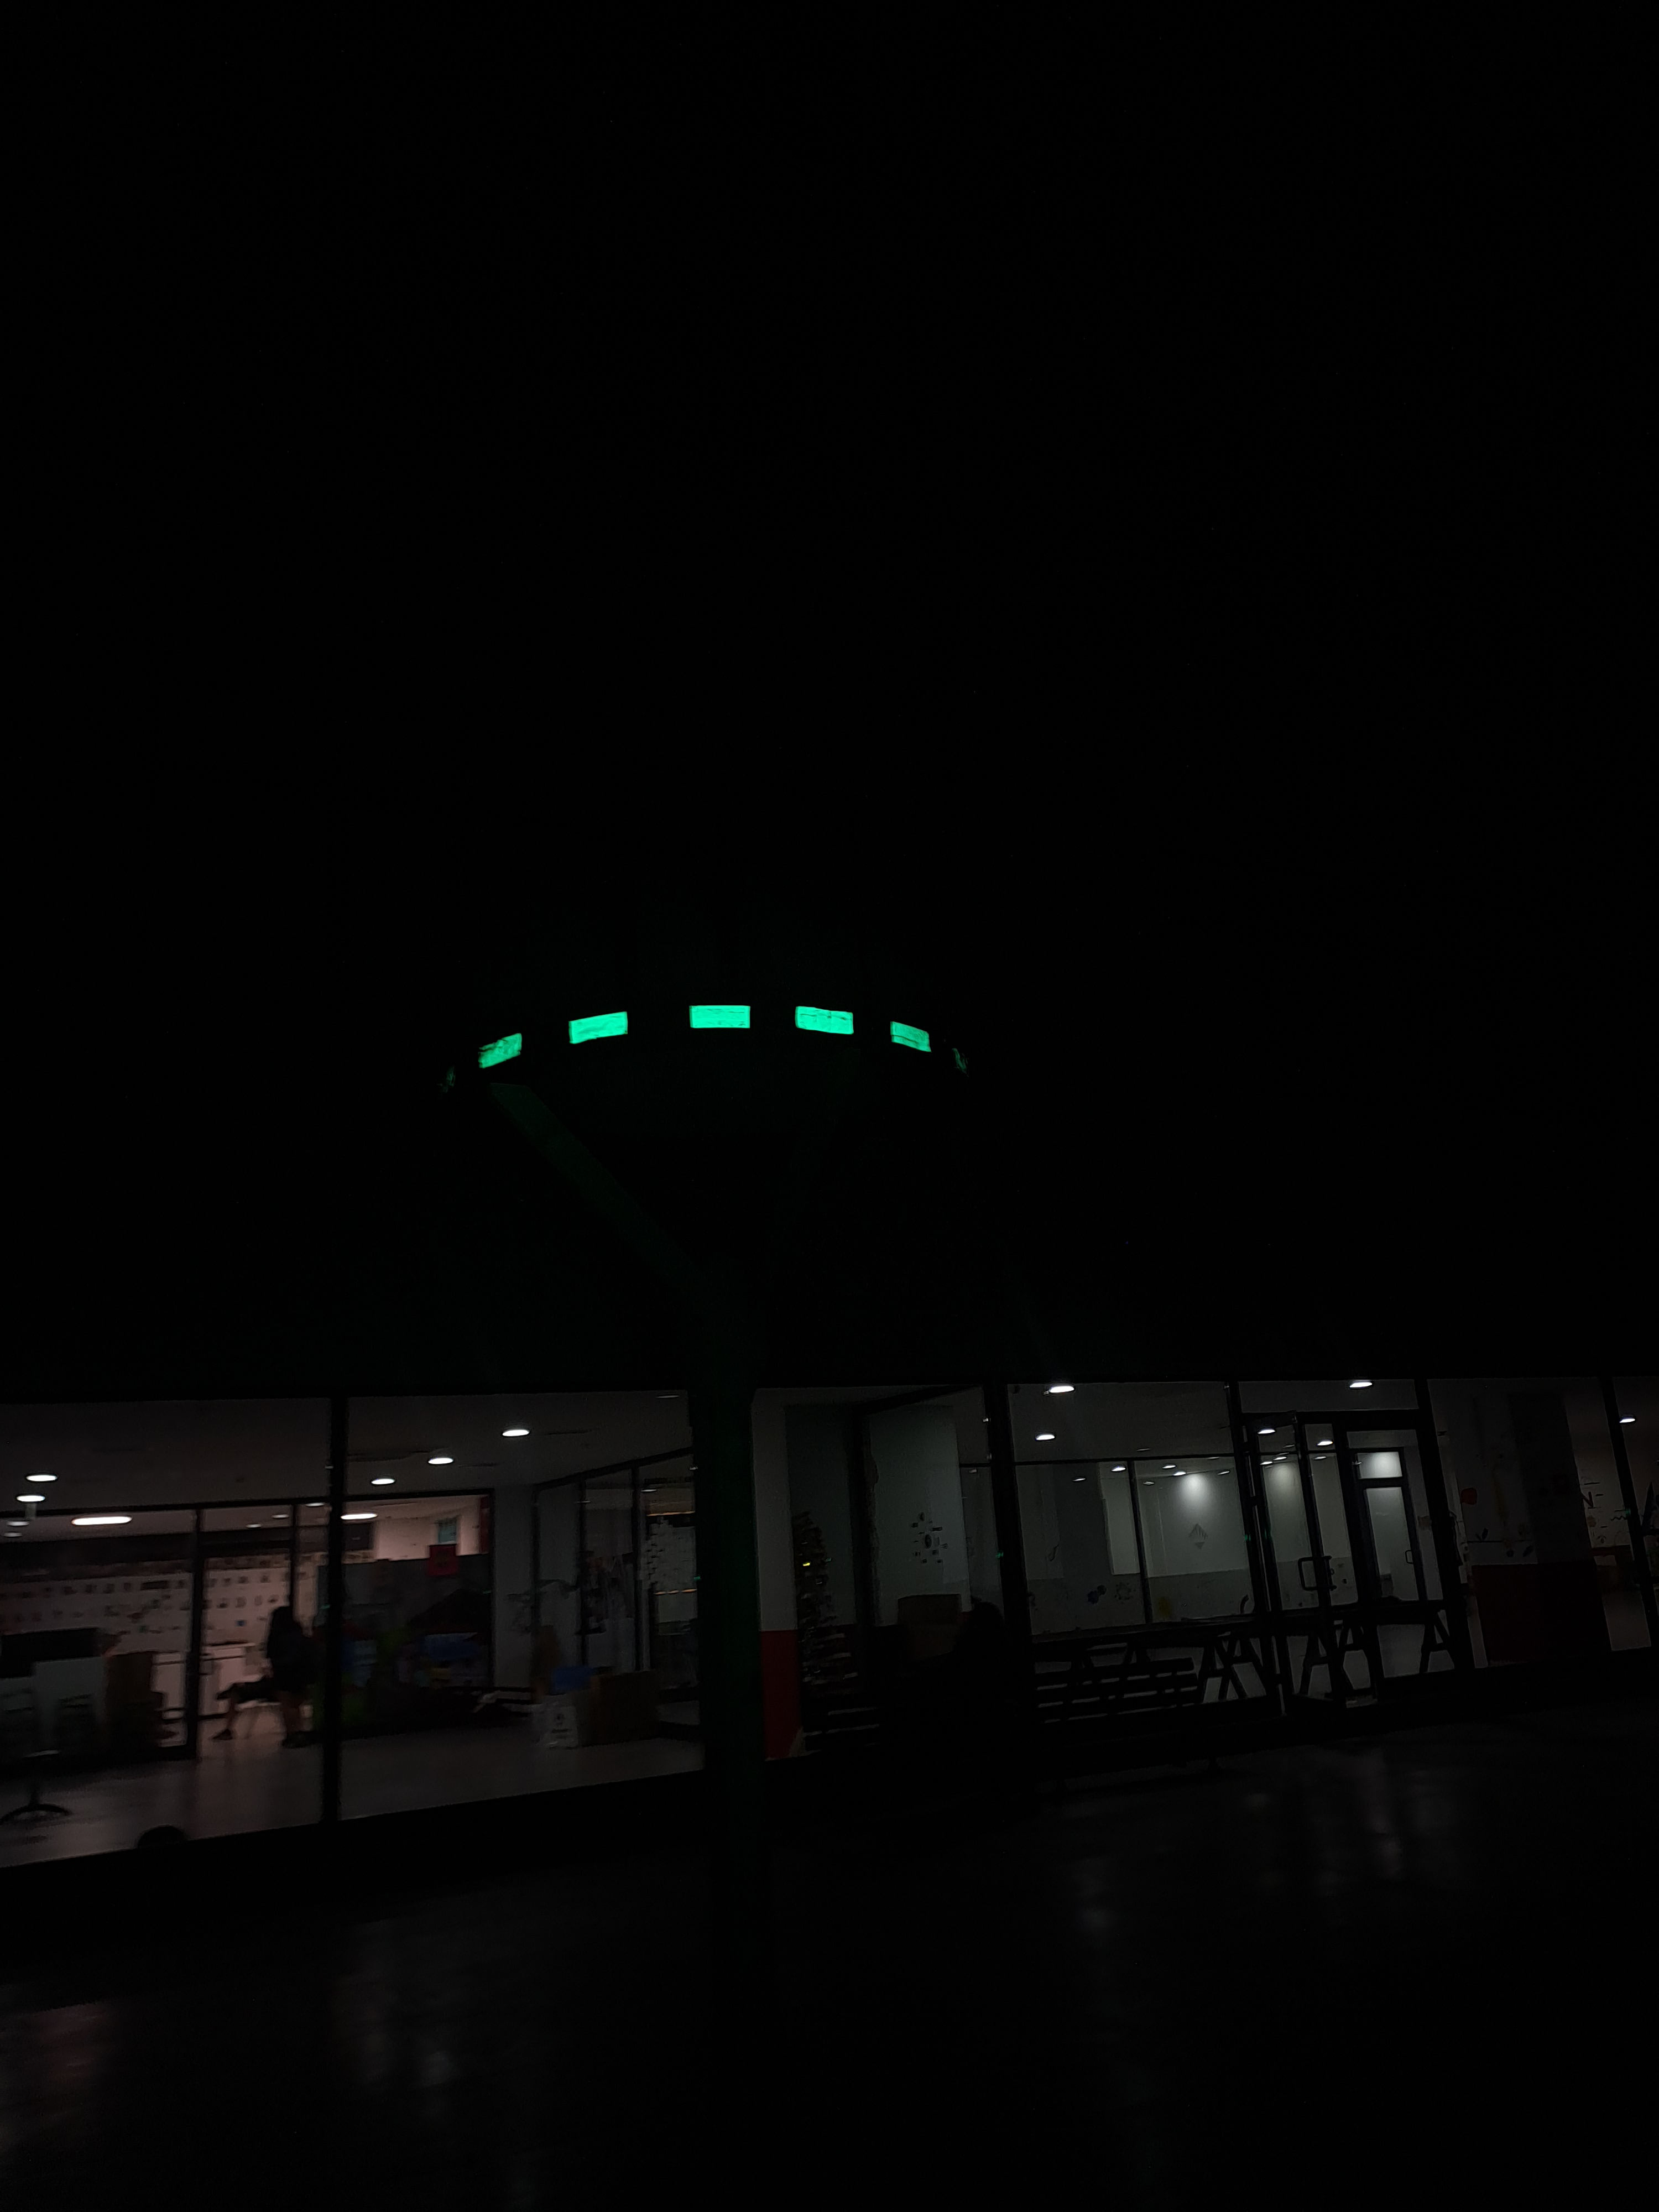hoop: (472, 1007, 938, 1071)
